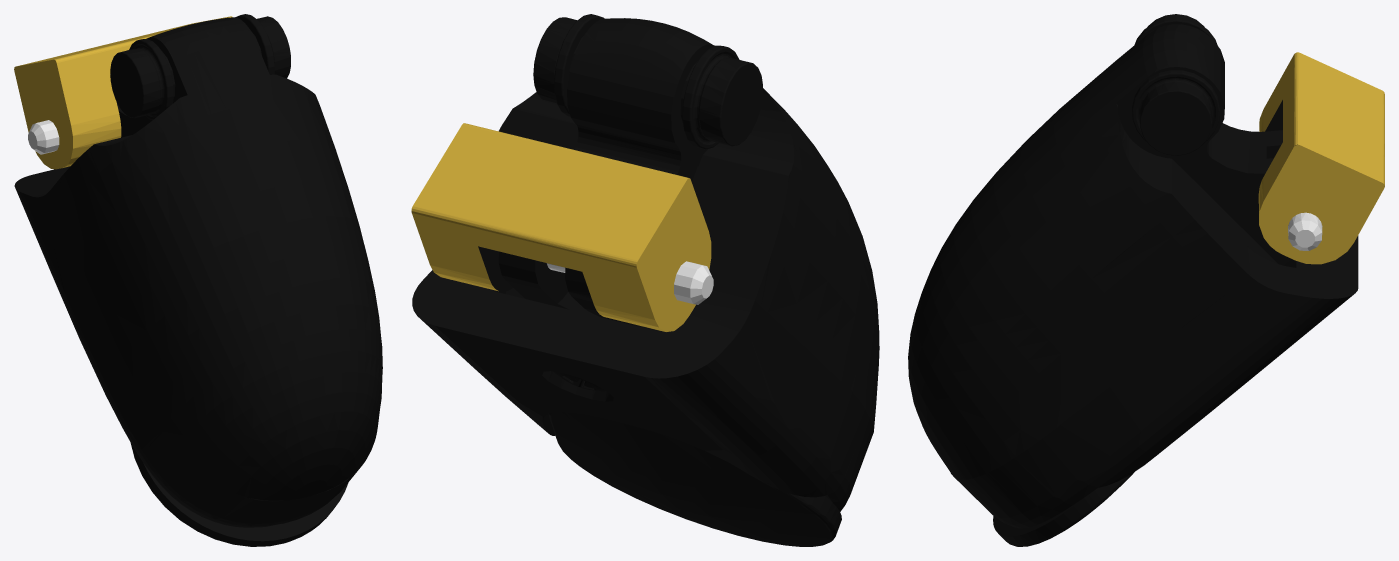
The picture shows the model from 3 angles, left to right: view 1: azimuth 30°, elevation 25°; view 2: azimuth 150°, elevation 25°; view 3: azimuth 270°, elevation 25°; orthographic projection. The views are drawn at different scales.
Visible parts, largest first — view 1: Link3; view 2: Link3; view 3: Link3.
Part boxes in pixels (bbox=[...]): Link3: bbox=[14, 14, 382, 546]; Link3: bbox=[411, 14, 879, 546]; Link3: bbox=[908, 14, 1384, 546].
Bounding box in the file's own units: 0.02 × 0.0374 × 0.0329.
